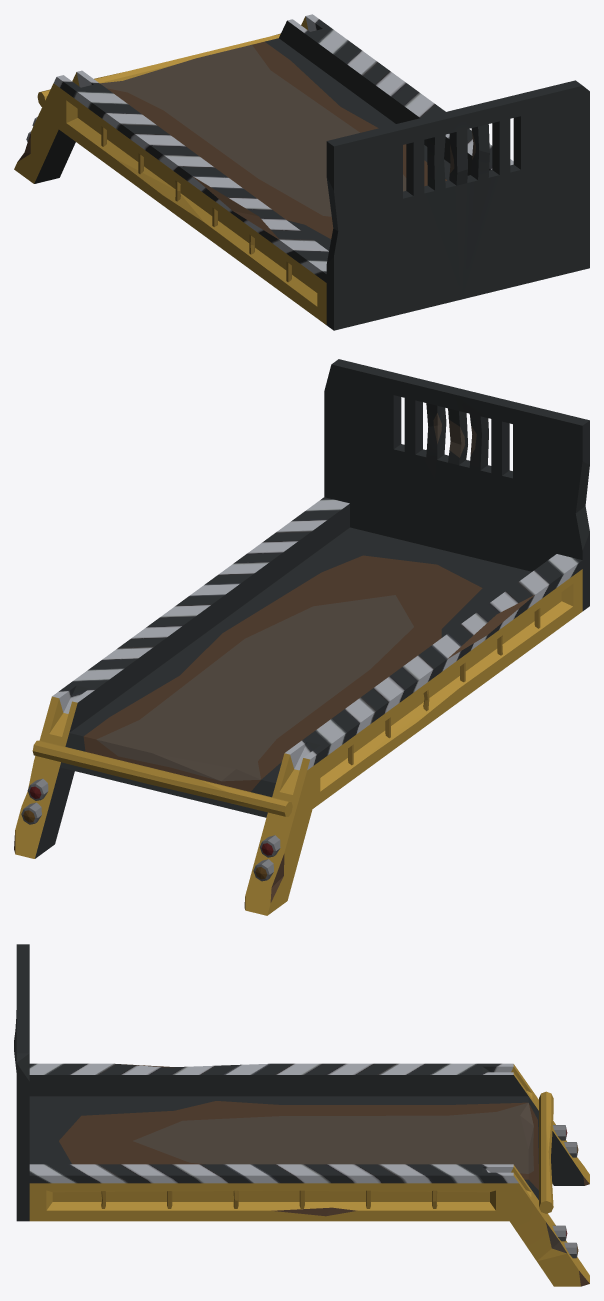
The model's file is SM_Veh_Truck_01_DumpsterTray.obj.
3 renders of one model, top to bottom at view 1: azimuth 30°, elevation 25°; view 2: azimuth 150°, elevation 25°; view 3: azimuth 270°, elevation 25°, orthographic. The views are drawn at different scales.
Visible parts, largest first — view 1: SM_Veh_Truck_01_DumpsterTray_0; view 2: SM_Veh_Truck_01_DumpsterTray_0; view 3: SM_Veh_Truck_01_DumpsterTray_0.
Part boxes in pixels (<box>): SM_Veh_Truck_01_DumpsterTray_0: <box>14,14,589,330</box>; SM_Veh_Truck_01_DumpsterTray_0: <box>14,359,589,915</box>; SM_Veh_Truck_01_DumpsterTray_0: <box>14,944,589,1286</box>.
Size of the model in its own units: 2.88 by 2.76 by 6.26.
Materials: 1 (1 with a texture image).
